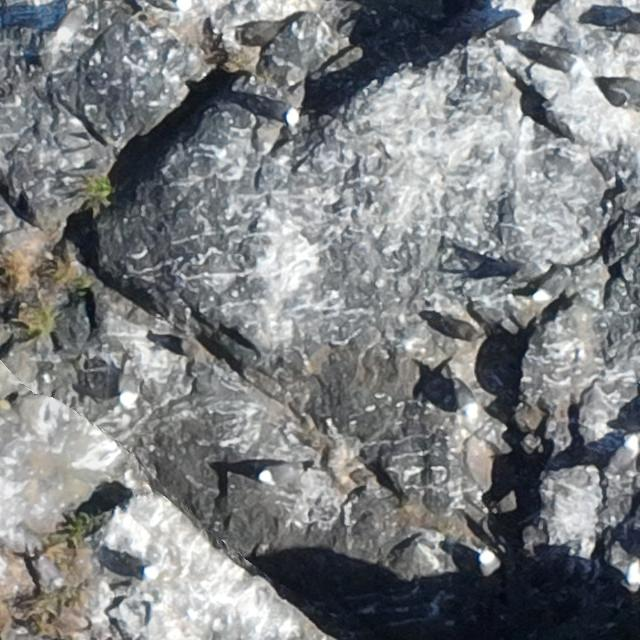umineko: (606, 436, 637, 475), (452, 378, 478, 419), (537, 46, 580, 68), (59, 6, 86, 40), (120, 367, 140, 408), (264, 100, 298, 124), (532, 277, 563, 302), (135, 567, 157, 597), (260, 465, 292, 484), (42, 561, 62, 585), (478, 549, 496, 575)
